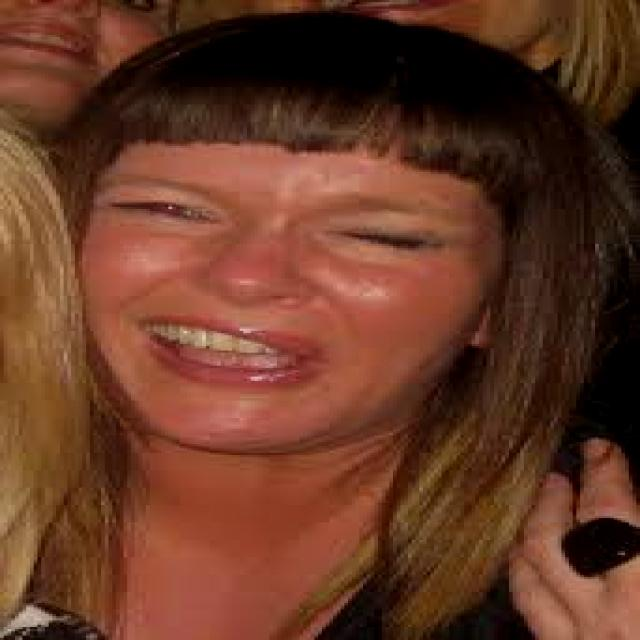stroke_face: (102, 61, 499, 479)
